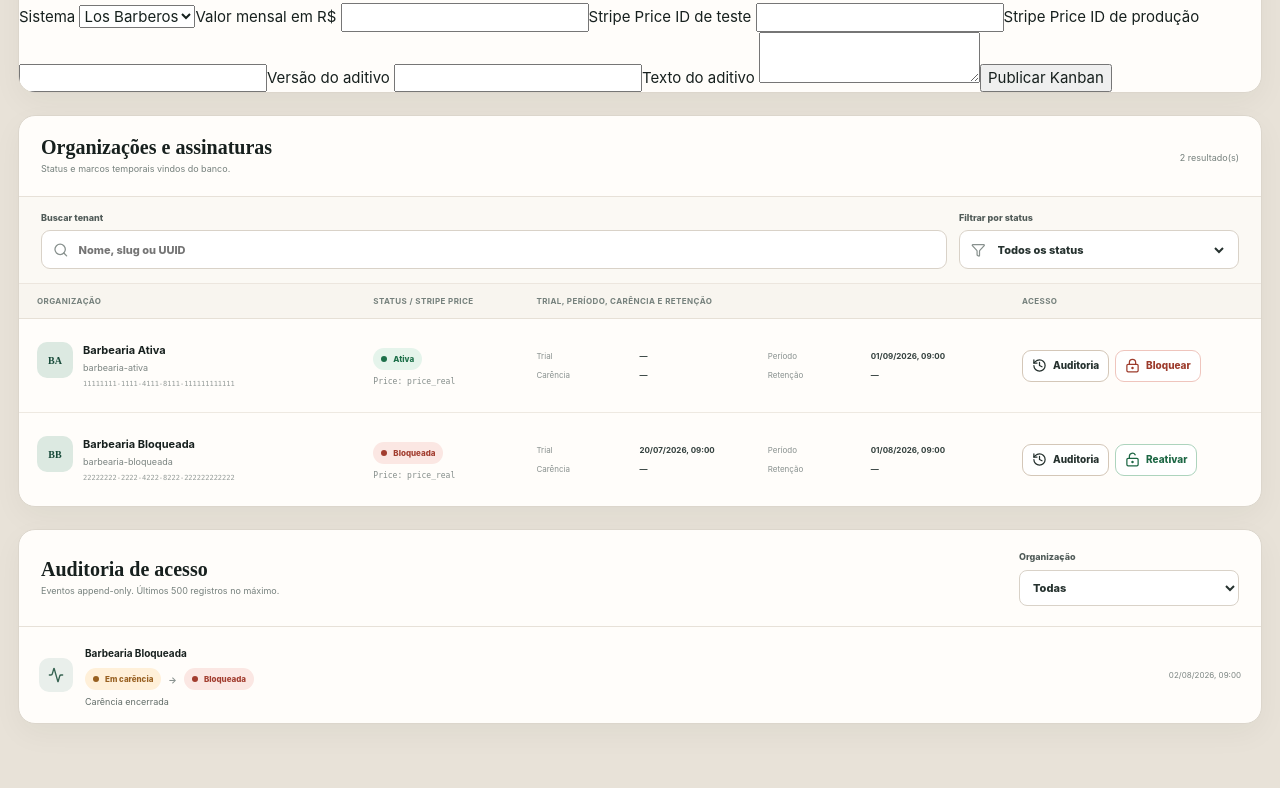
connected platform admin › reativa tenant bloqueado pela mesma RPC auditada
The image size is (1280, 788).
(page scrolled)
Click the button with aria-label "Reativar acesso de Barbearia Bloqueada".
click(1156, 460)  # box x1=1115 y1=444 x2=1197 y2=476
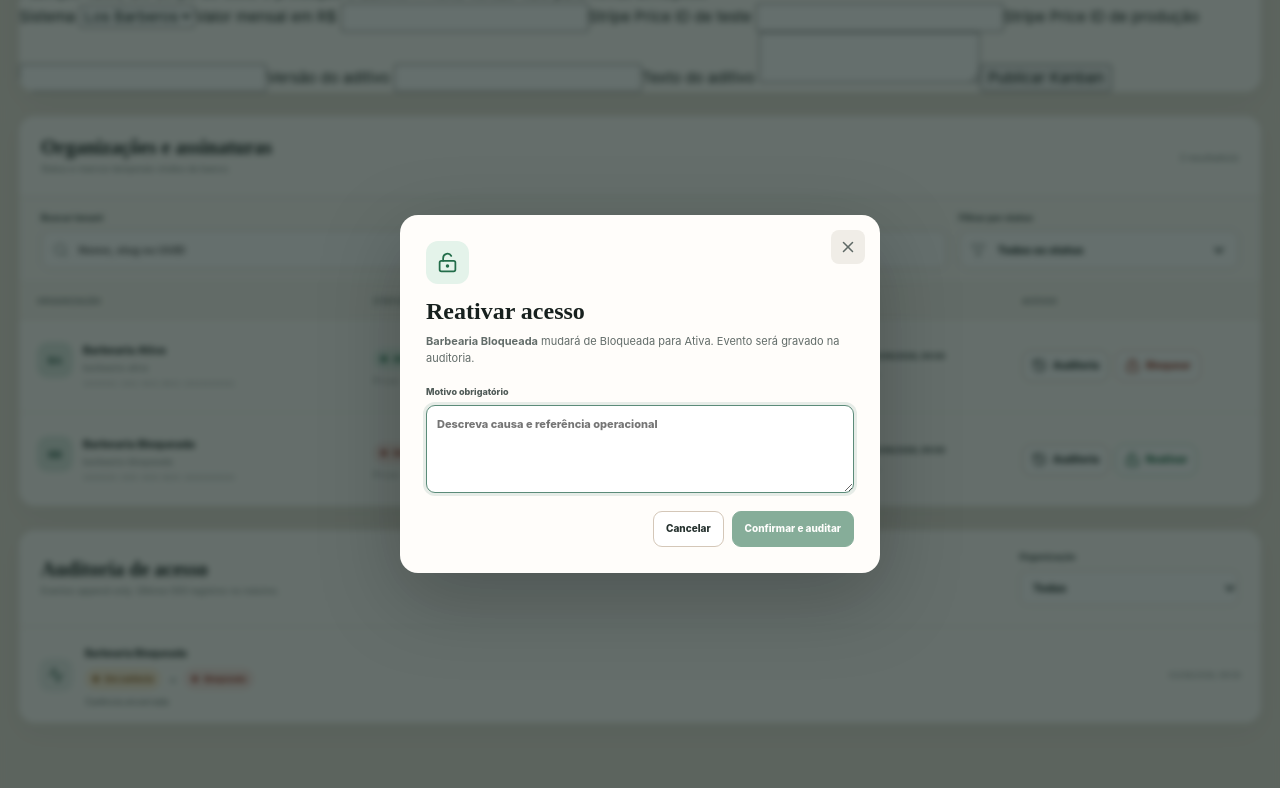
Type "Pagamento conciliado" into the text box labelled "Motivo obrigatório".
click(640, 449); type("Pagamento conciliado")  # box x1=426 y1=405 x2=854 y2=493
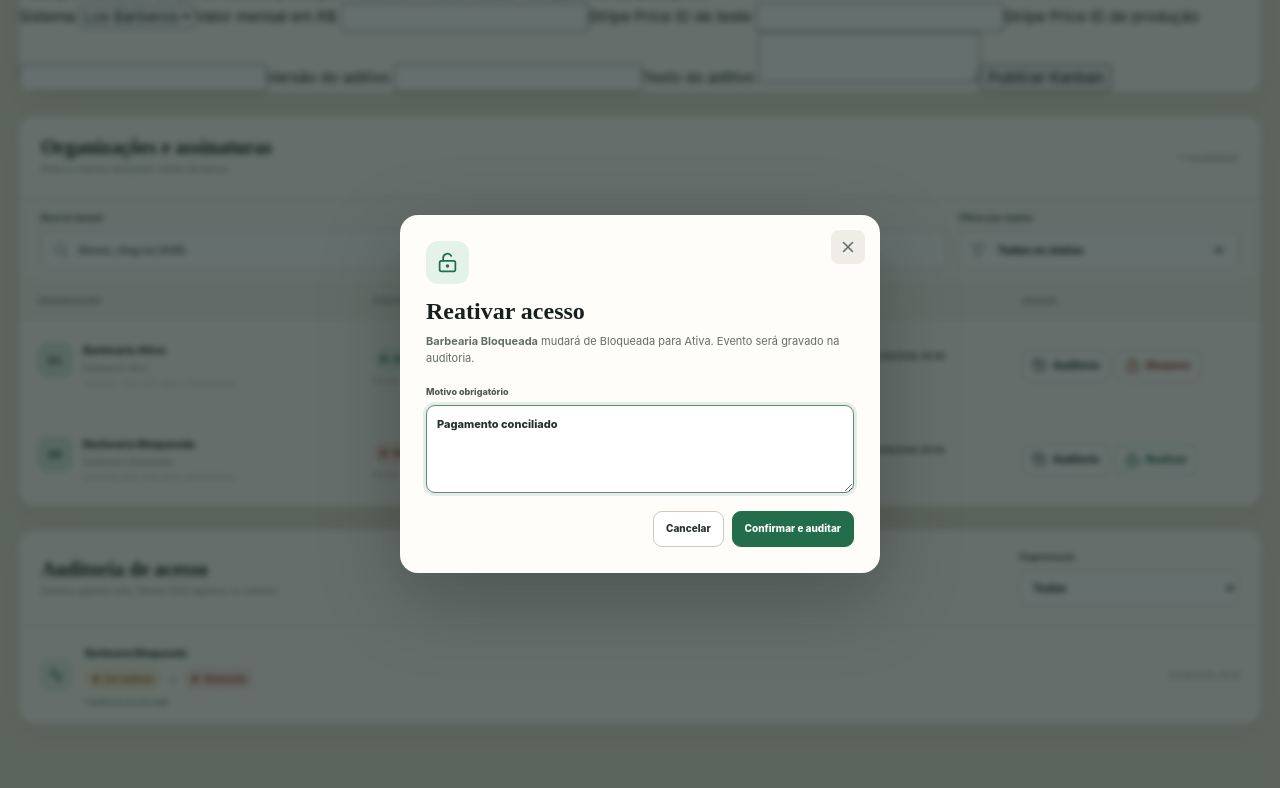
Click the button "Confirmar e auditar".
click(793, 529)  # box x1=732 y1=511 x2=854 y2=547
(page scrolled)
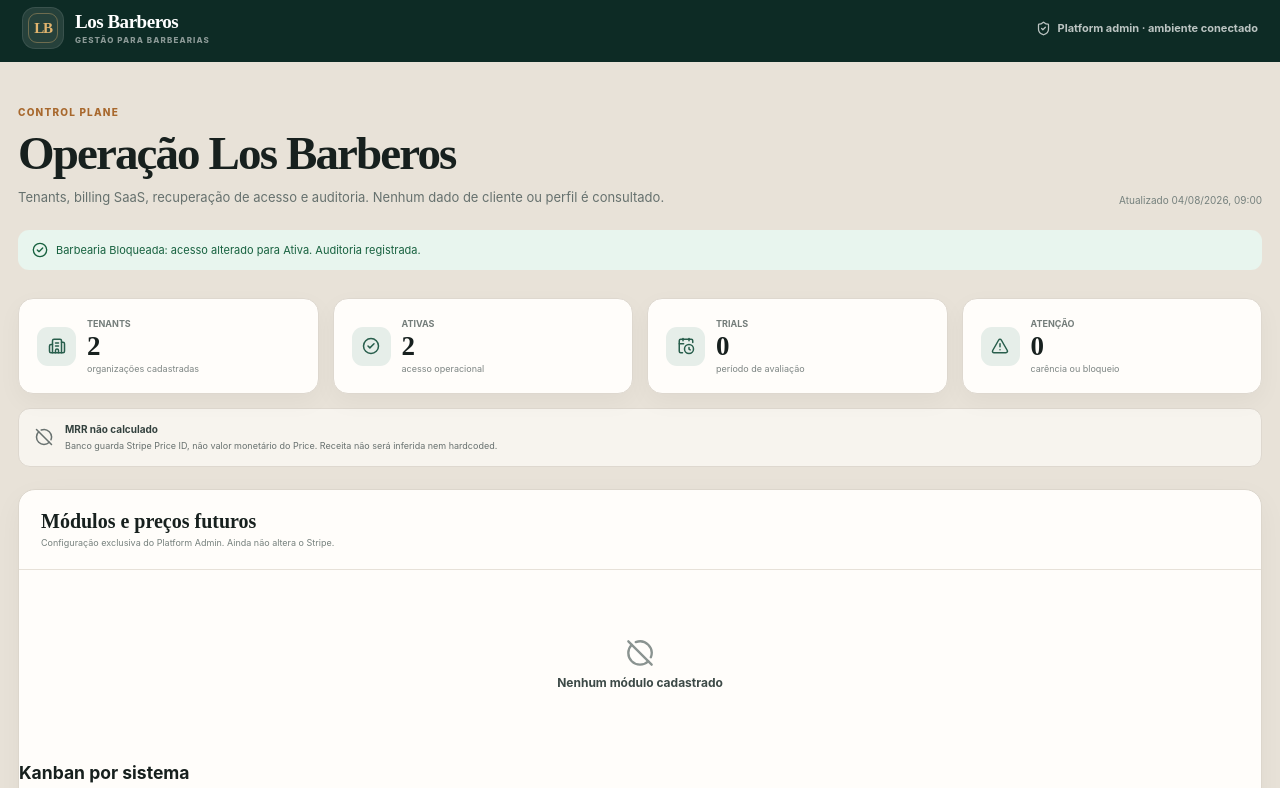
Expected: the message shows "acesso alterado para Ativa", x1=56 y1=243 x2=421 y2=257
